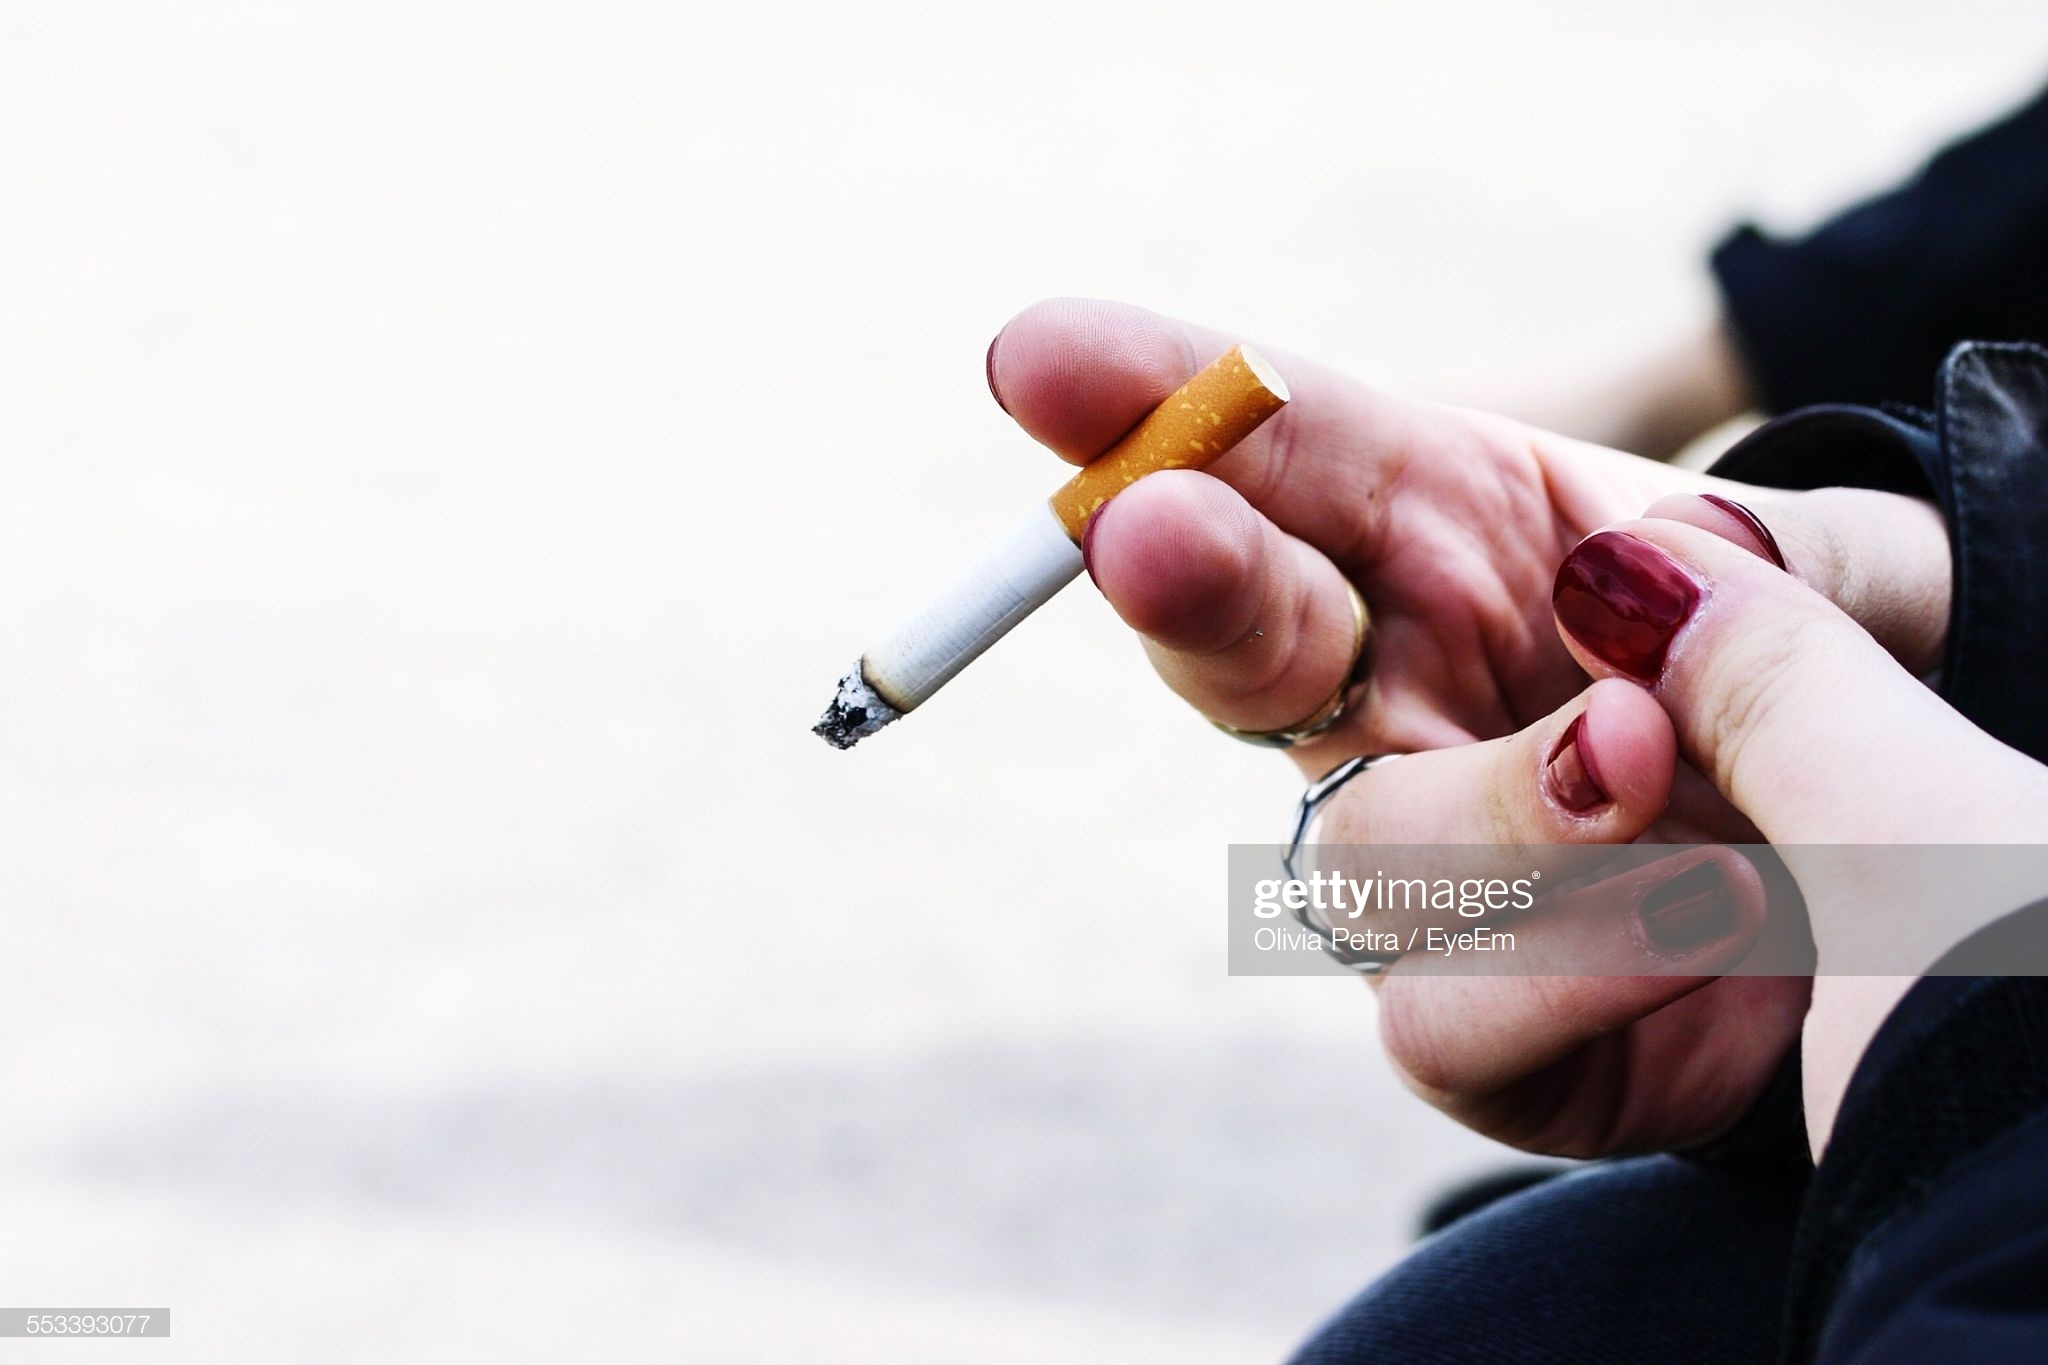sigaretta: (816, 321, 1296, 762)
